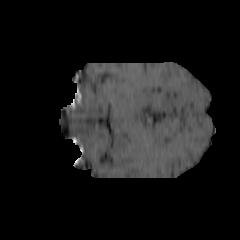glioma: (98, 110, 165, 166)
